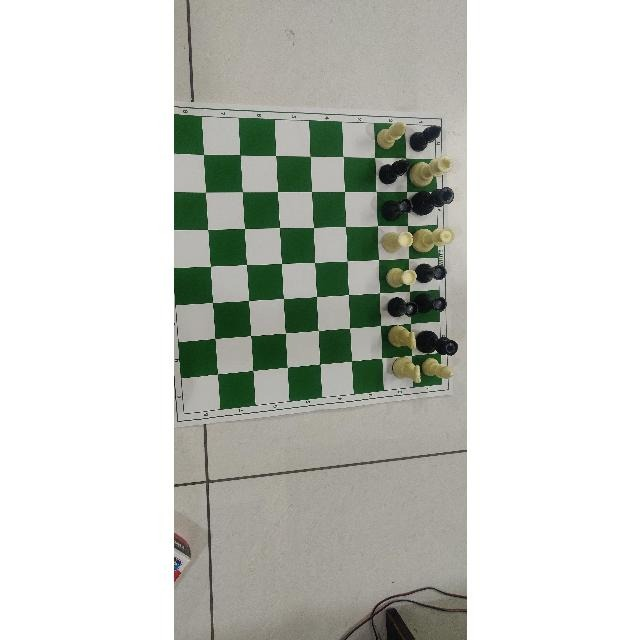black-bishop: (408, 125, 441, 153), (376, 159, 410, 184)
black-king: (411, 189, 457, 217)
black-queen: (416, 330, 460, 357)
black-rook: (378, 199, 416, 223), (384, 296, 418, 320), (415, 260, 446, 285), (414, 293, 448, 315)
white-bishop: (374, 117, 408, 151), (419, 355, 454, 385)
white-king: (406, 155, 454, 187)
white-knight: (388, 358, 424, 388), (382, 325, 420, 353)
white-queen: (414, 227, 454, 253)
white-rook: (375, 230, 416, 254), (383, 265, 417, 289)
